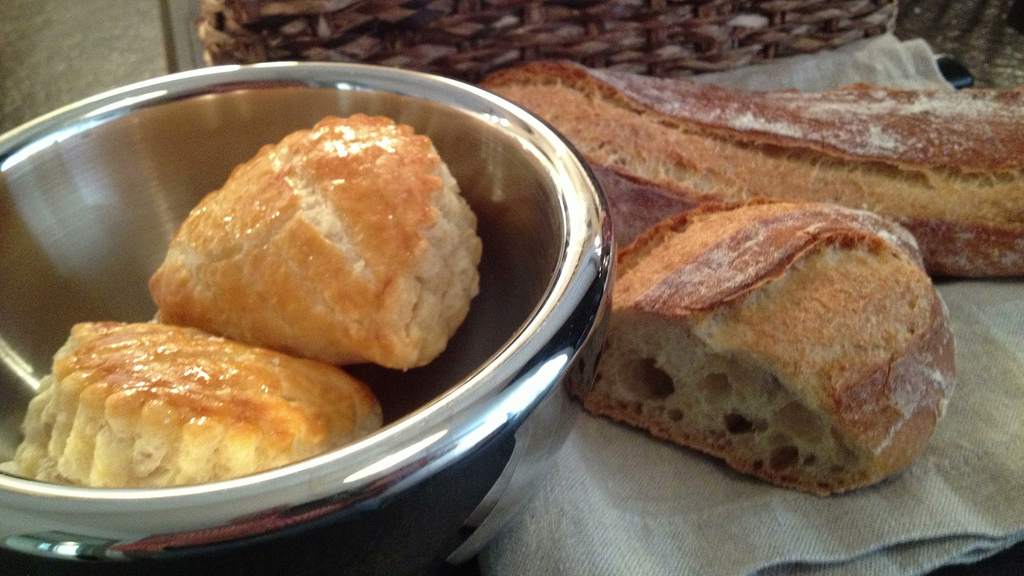slice of bread: (593, 205, 960, 500), (157, 108, 470, 377), (21, 306, 383, 500)
